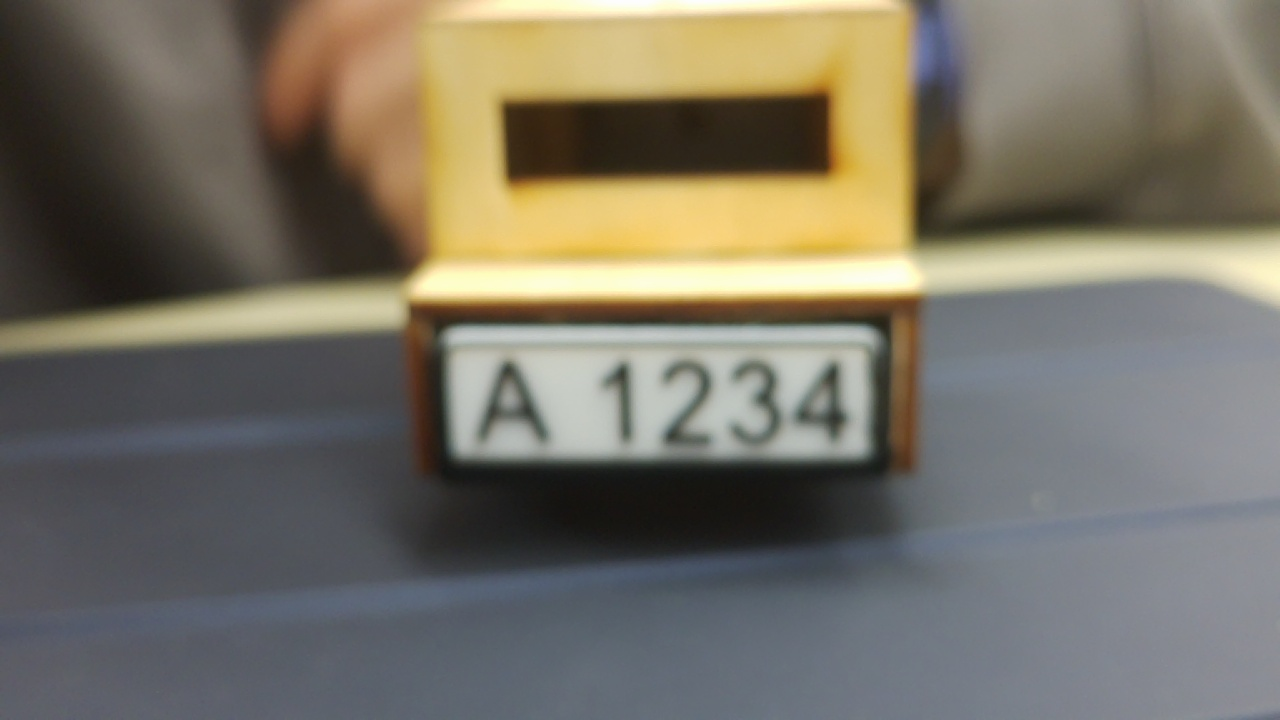license_plate: (424, 305, 884, 482)
